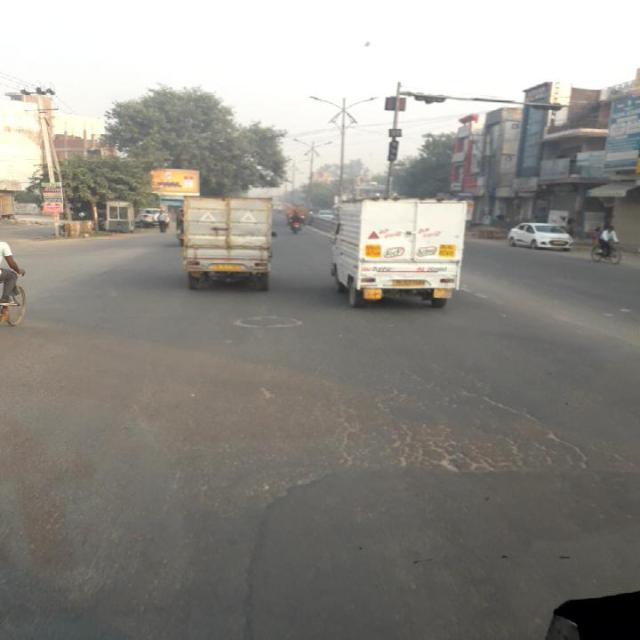crack: (303, 368, 582, 484)
